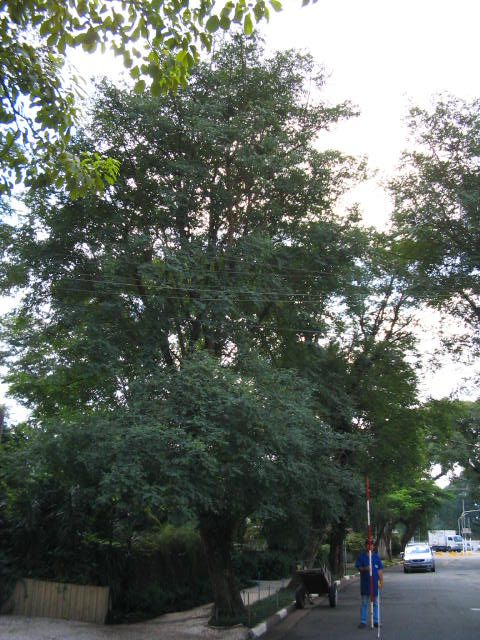crown: (2, 31, 457, 534)
stem: (187, 518, 259, 623)
stick: (359, 476, 379, 627)
tree: (1, 28, 458, 623)
